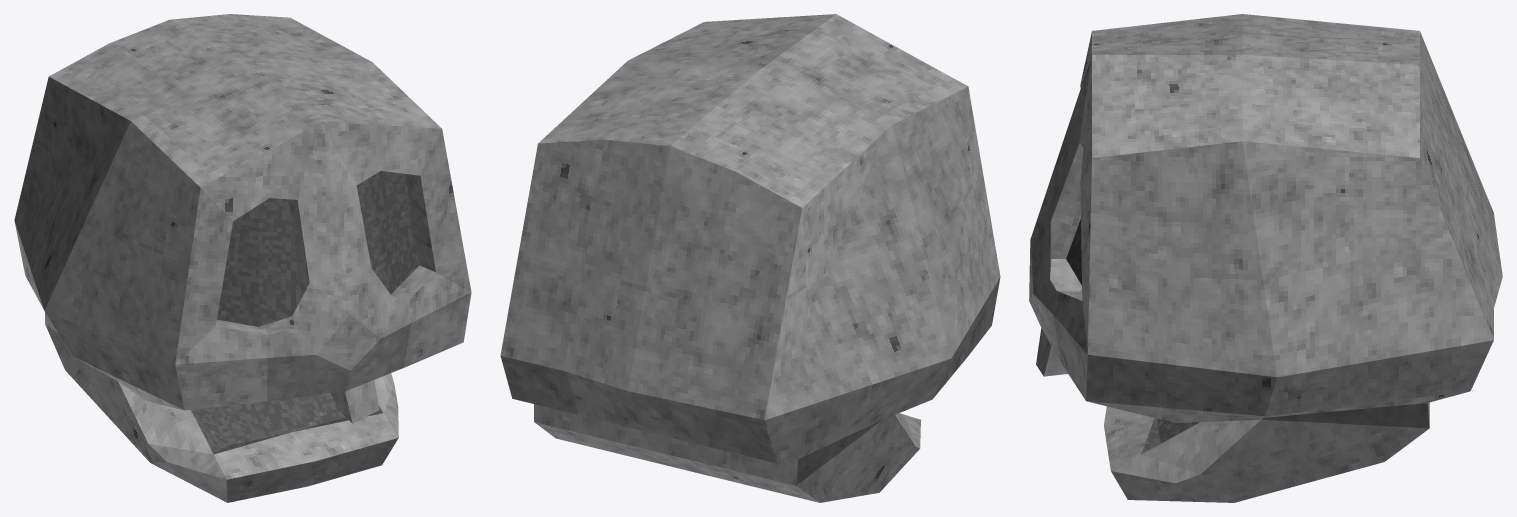
The model's file is Kosta_jok.fbx.
The picture shows the model from 3 angles, left to right: view 1: azimuth 30°, elevation 25°; view 2: azimuth 150°, elevation 25°; view 3: azimuth 270°, elevation 25°; orthographic projection. The views are drawn at different scales.
Visible parts, largest first — view 1: Cube.027; view 2: Cube.027; view 3: Cube.027.
Boxes of the visible parts, box(x1,y1,x2,y2) form: Cube.027: box(14, 14, 471, 502); Cube.027: box(500, 14, 1000, 502); Cube.027: box(1029, 14, 1502, 502).
Size of the model in its own units: 172 by 161 by 171.
